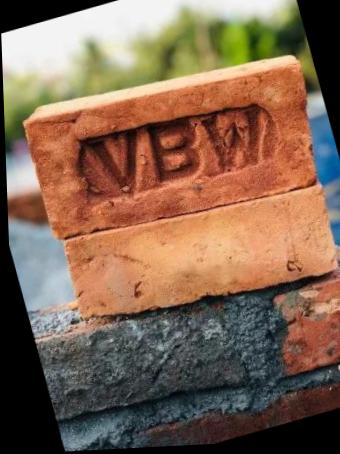brick: (19, 43, 331, 259), (58, 175, 340, 346)
